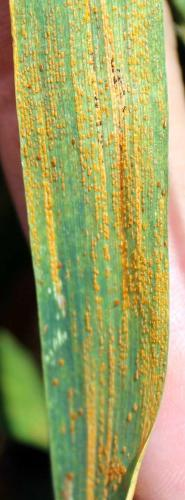Corn rust leaf: (5, 6, 177, 500)
